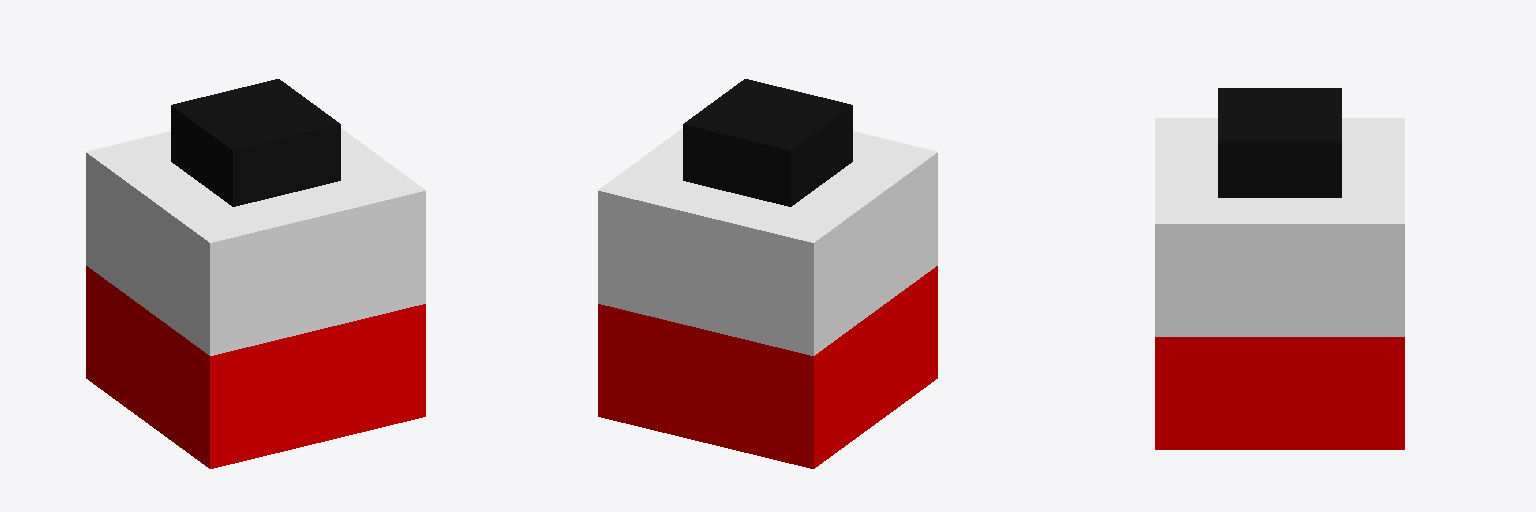
3 views of the same model, side by side, from view 1: azimuth 30°, elevation 25°; view 2: azimuth 150°, elevation 25°; view 3: azimuth 270°, elevation 25° (orthographic).
Visible parts, largest first — view 1: cube; view 2: cube; view 3: cube.
Boxes of the visible parts, x1=… form: cube: x1=86, y1=79, x2=425, y2=468; cube: x1=598, y1=79, x2=937, y2=468; cube: x1=1155, y1=88, x2=1404, y2=449.
Size of the model in its own units: 1 by 1.25 by 1.
1 materials, 1 textured.